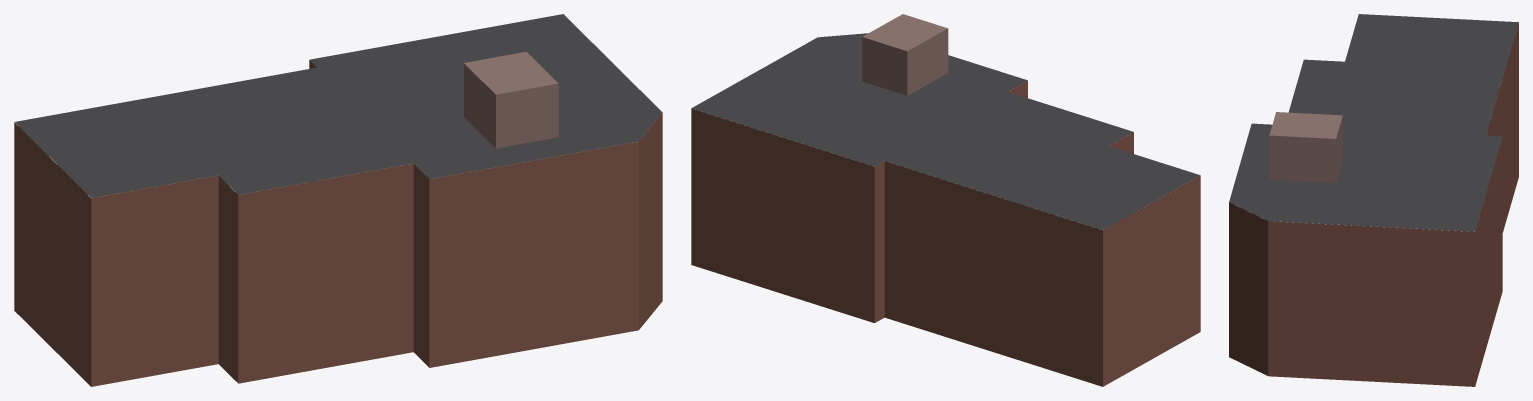
File: 3_6.bld.glb
The picture shows the model from 3 angles, left to right: view 1: azimuth 30°, elevation 25°; view 2: azimuth 150°, elevation 25°; view 3: azimuth 270°, elevation 25°; orthographic projection. The views are drawn at different scales.
Visible parts, largest first — view 1: 3_6; view 2: 3_6; view 3: 3_6.
Boxes of the visible parts, left/top/right/bottom form: 3_6: left=14, top=14, right=662, bottom=386; 3_6: left=691, top=14, right=1200, bottom=386; 3_6: left=1229, top=14, right=1518, bottom=386.
Size of the model in its own units: 31.32 by 13.37 by 17.61.
